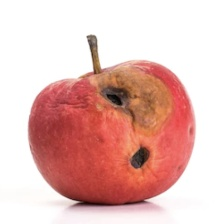apple: (2, 44, 185, 181)
